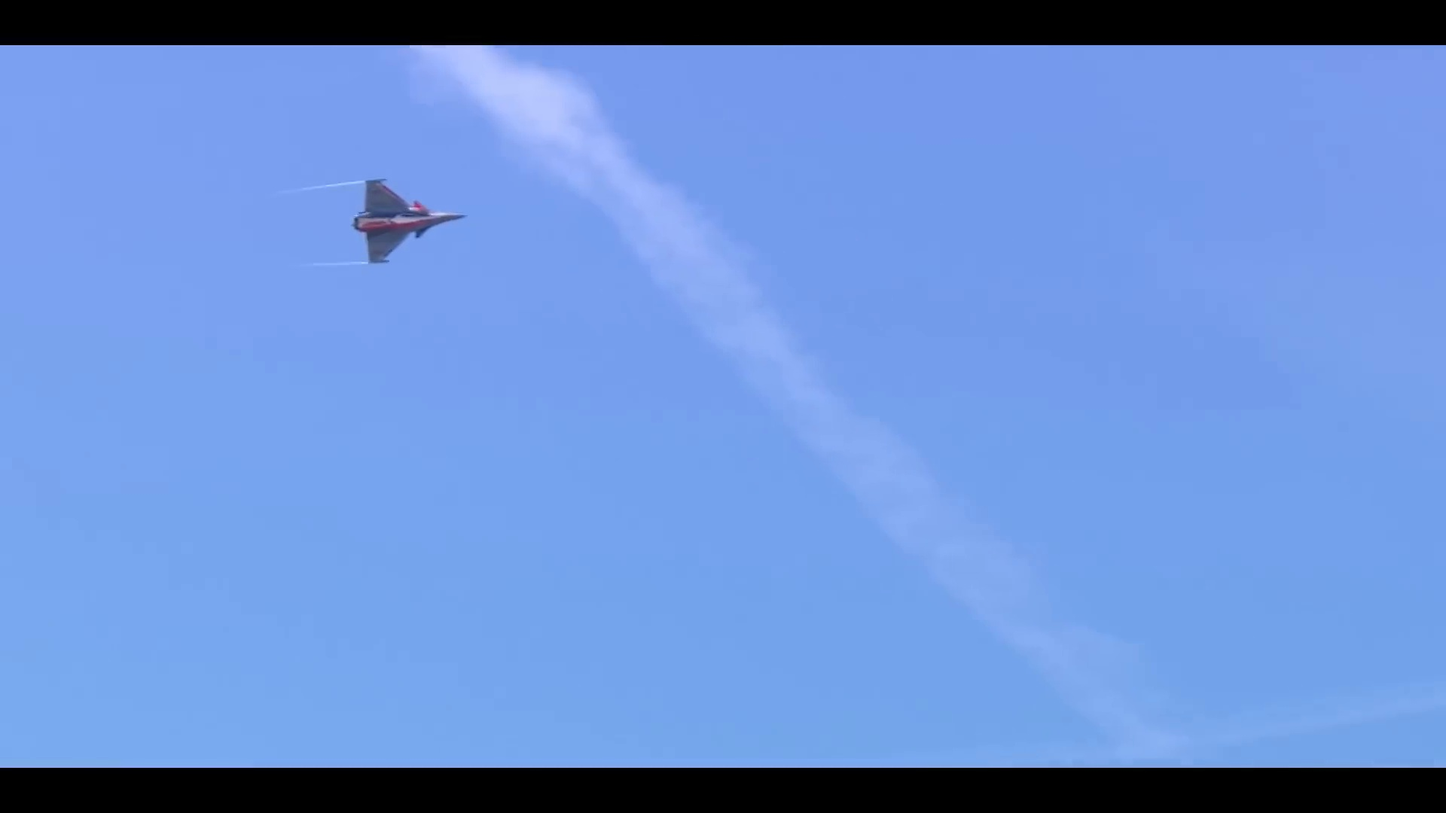Rafale: (349, 179, 469, 265)
